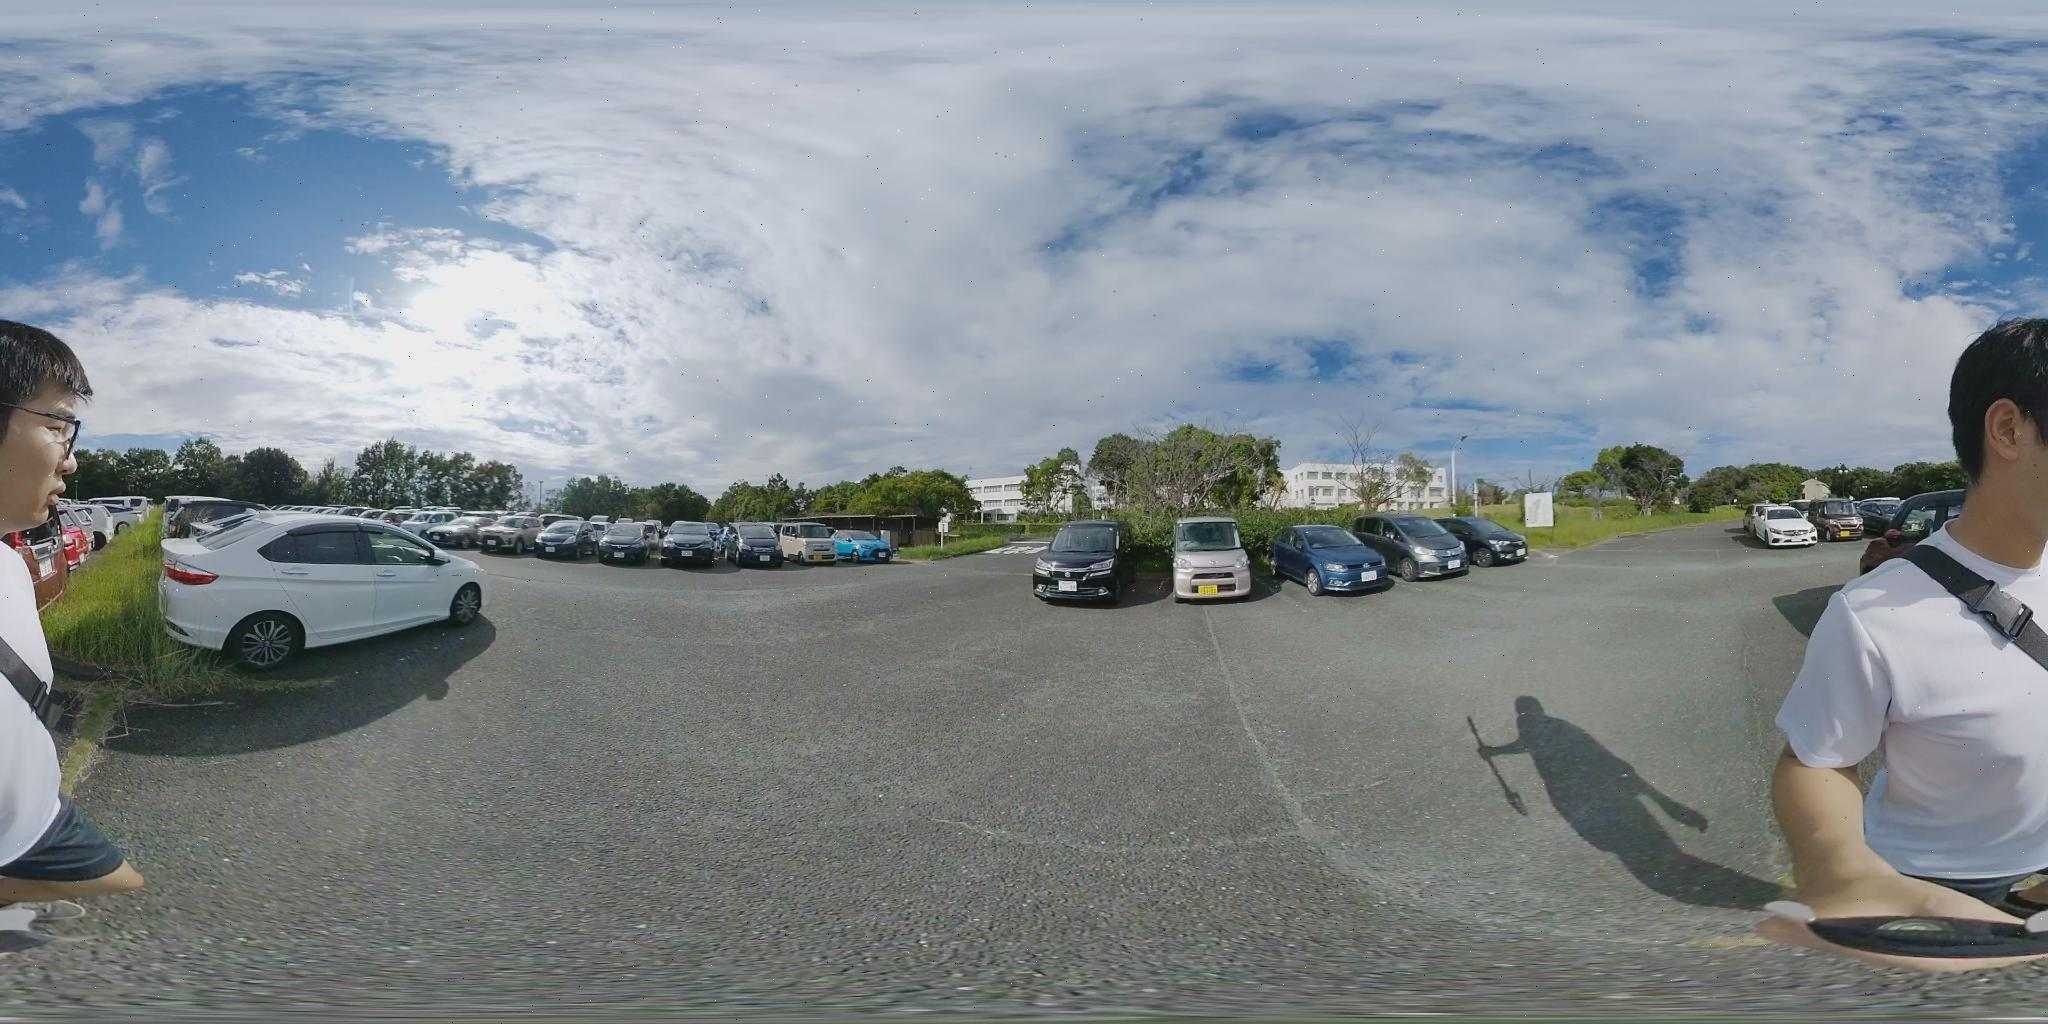car: (161, 508, 495, 670), (1272, 524, 1398, 596), (1033, 520, 1134, 606), (1354, 515, 1472, 580), (1176, 517, 1251, 597), (777, 529, 892, 564), (662, 519, 737, 567), (168, 498, 256, 537), (596, 519, 661, 566), (470, 517, 542, 552), (1755, 508, 1818, 546), (533, 521, 596, 559), (731, 525, 785, 568), (823, 534, 896, 563), (408, 515, 473, 546)
